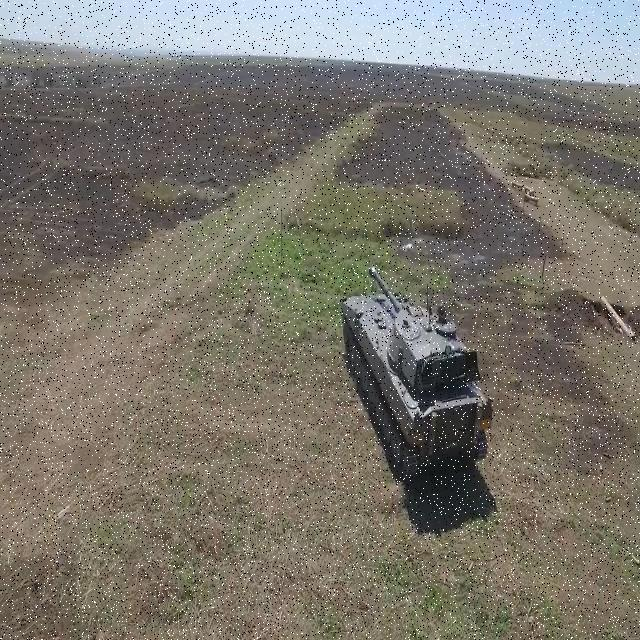MIL_MBT: (340, 267, 494, 484)
